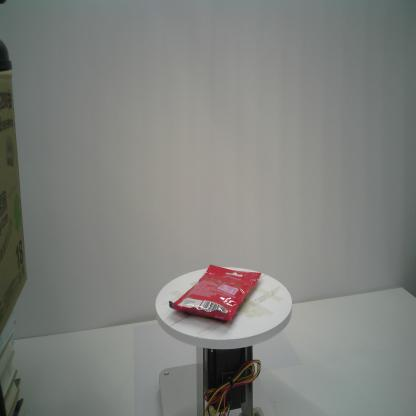Candy: (168, 262, 262, 323)
